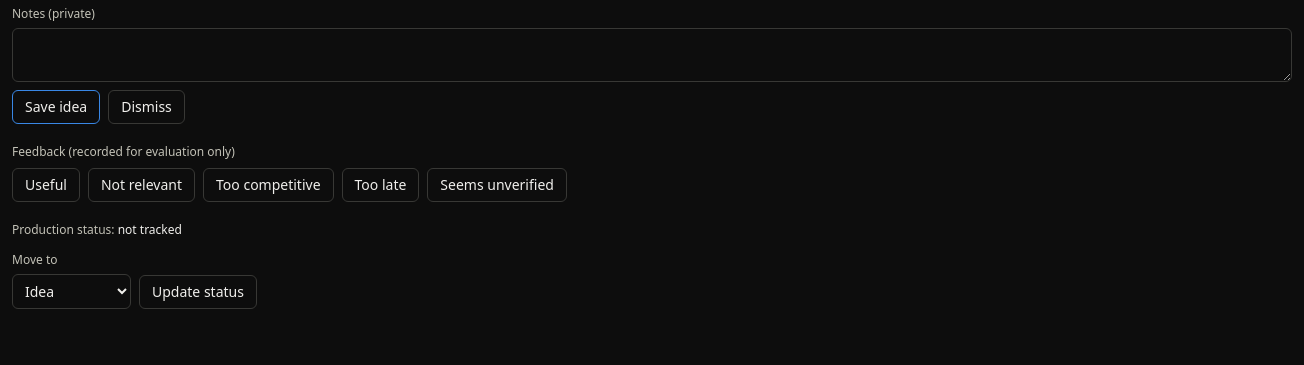
Test case: recommendation actions › shows the API's refusal (e.g. an invalid transition)
Click the button "Dismiss" at point(147, 107), box x1=108 y1=90 x2=185 y2=124
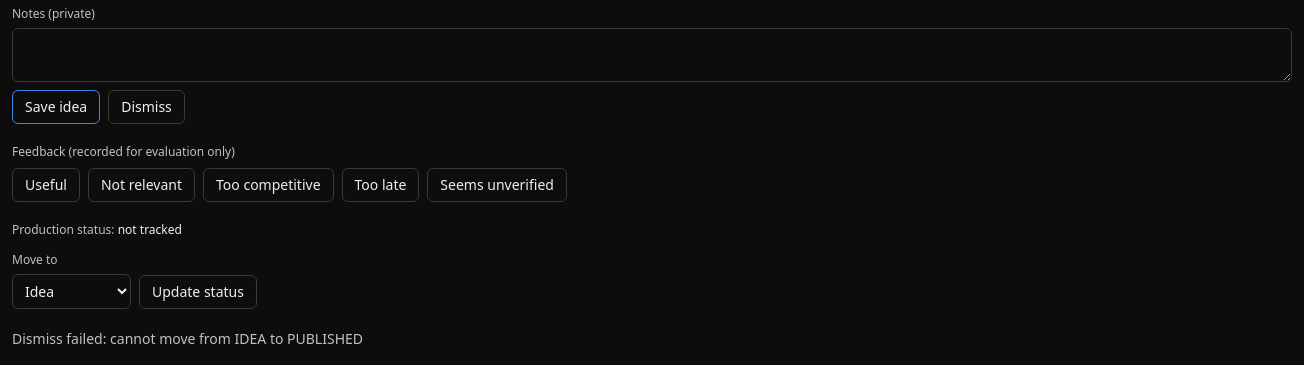
Now the text "Dismiss failed: cannot move from IDEA to PUBLISHED" is shown, box x1=12 y1=329 x2=363 y2=348
